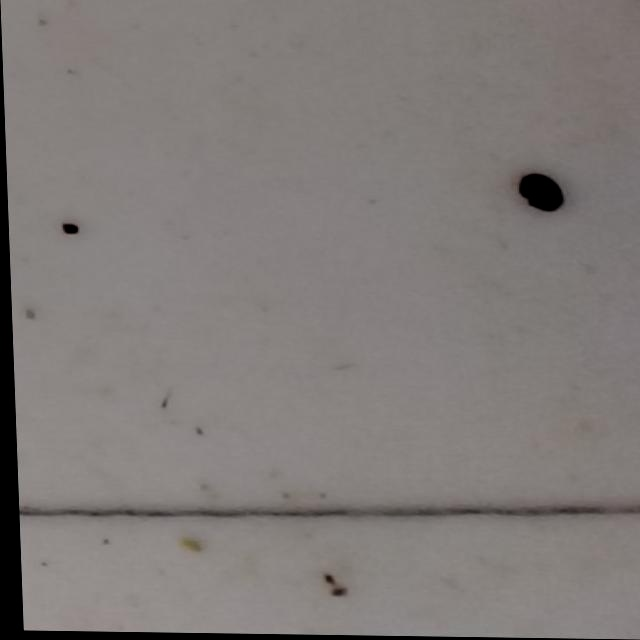varroa: (513, 173, 566, 216)
